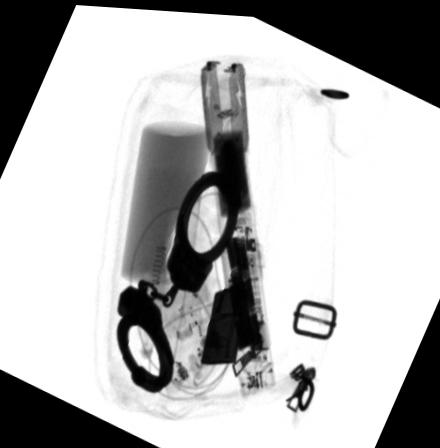Baton: (200, 55, 278, 395)
HandCuffs: (115, 169, 243, 391)
Lighter: (201, 281, 249, 364)
